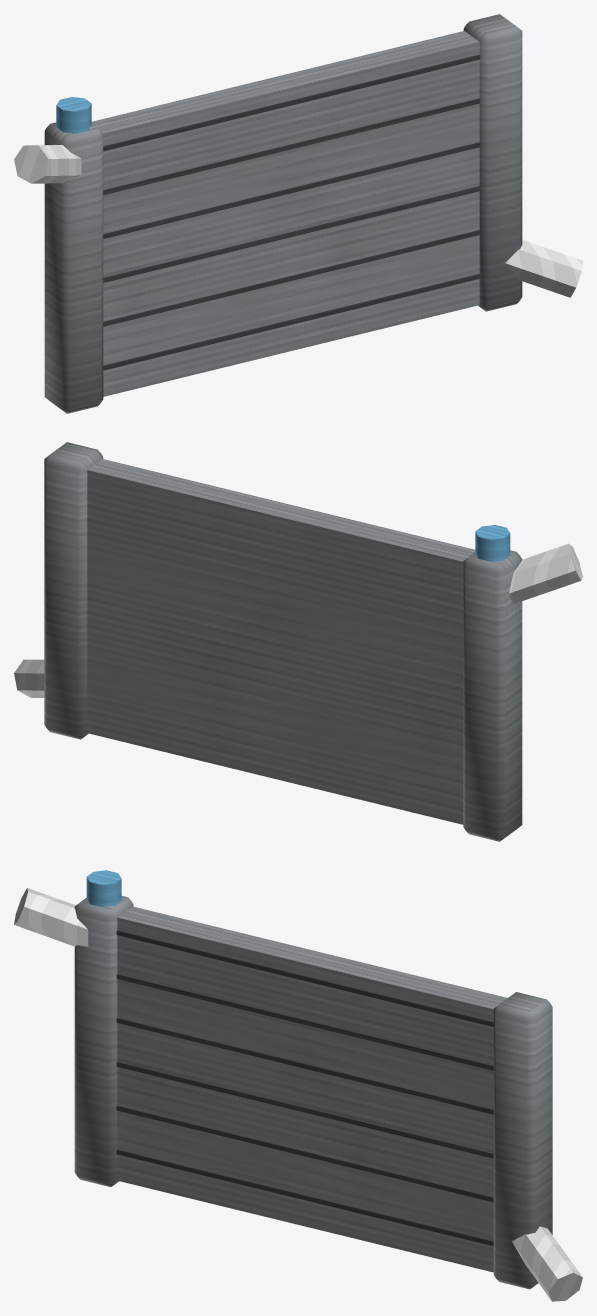
File: radiador_n1.glb
3 views of the same model, one above another, from view 1: azimuth 30°, elevation 25°; view 2: azimuth 150°, elevation 25°; view 3: azimuth 330°, elevation 25° (orthographic).
Parts seen in each view (by area): view 1: radiador_n1; view 2: radiador_n1; view 3: radiador_n1.
Part boxes in pixels (x1=…): radiador_n1: x1=14, y1=14, x2=582, y2=413; radiador_n1: x1=14, y1=442, x2=582, y2=841; radiador_n1: x1=14, y1=870, x2=582, y2=1301.
Bounding box in the file's own units: 0.8081 × 0.41 × 0.1009.
Materials: 2 (2 with a texture image).
